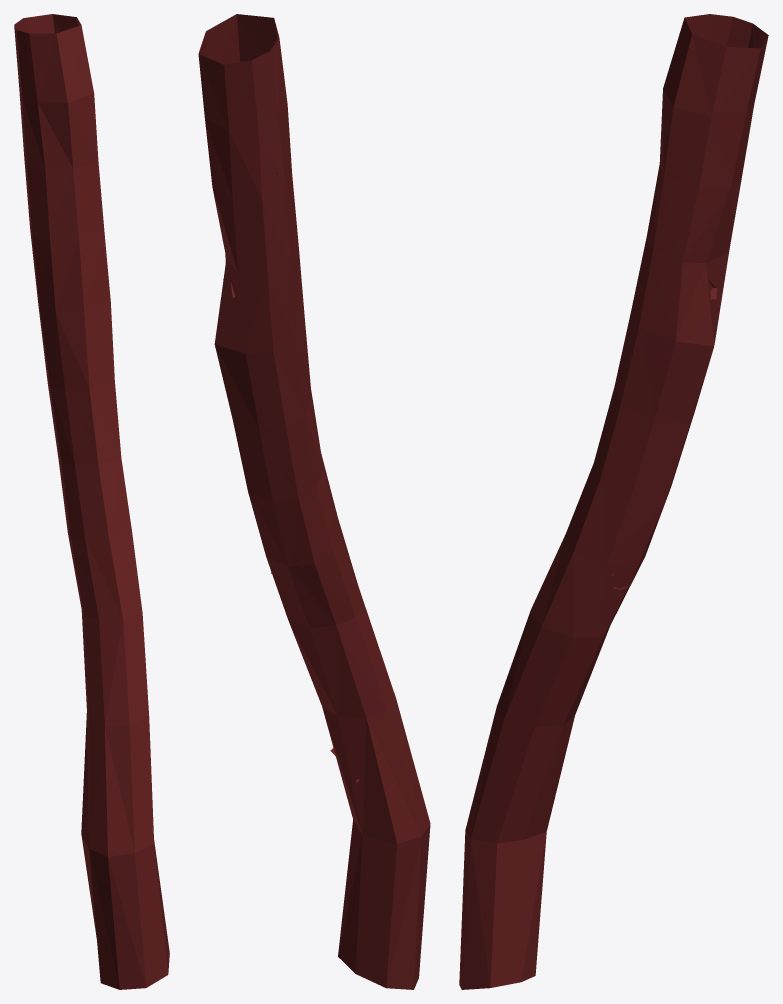
Rendered from Artéria Aorta Abdominal2.FBX.
The picture shows the model from 3 angles, left to right: view 1: azimuth 30°, elevation 25°; view 2: azimuth 150°, elevation 25°; view 3: azimuth 270°, elevation 25°; orthographic projection. The views are drawn at different scales.
Parts seen in each view (by area): view 1: CS_Arterie; view 2: CS_Arterie; view 3: CS_Arterie.
Part boxes in pixels (bbox=[...]): CS_Arterie: bbox=[14, 14, 169, 989]; CS_Arterie: bbox=[198, 14, 430, 989]; CS_Arterie: bbox=[459, 14, 768, 989].
Bounding box in the file's own units: 2.19 × 20 × 5.74.
